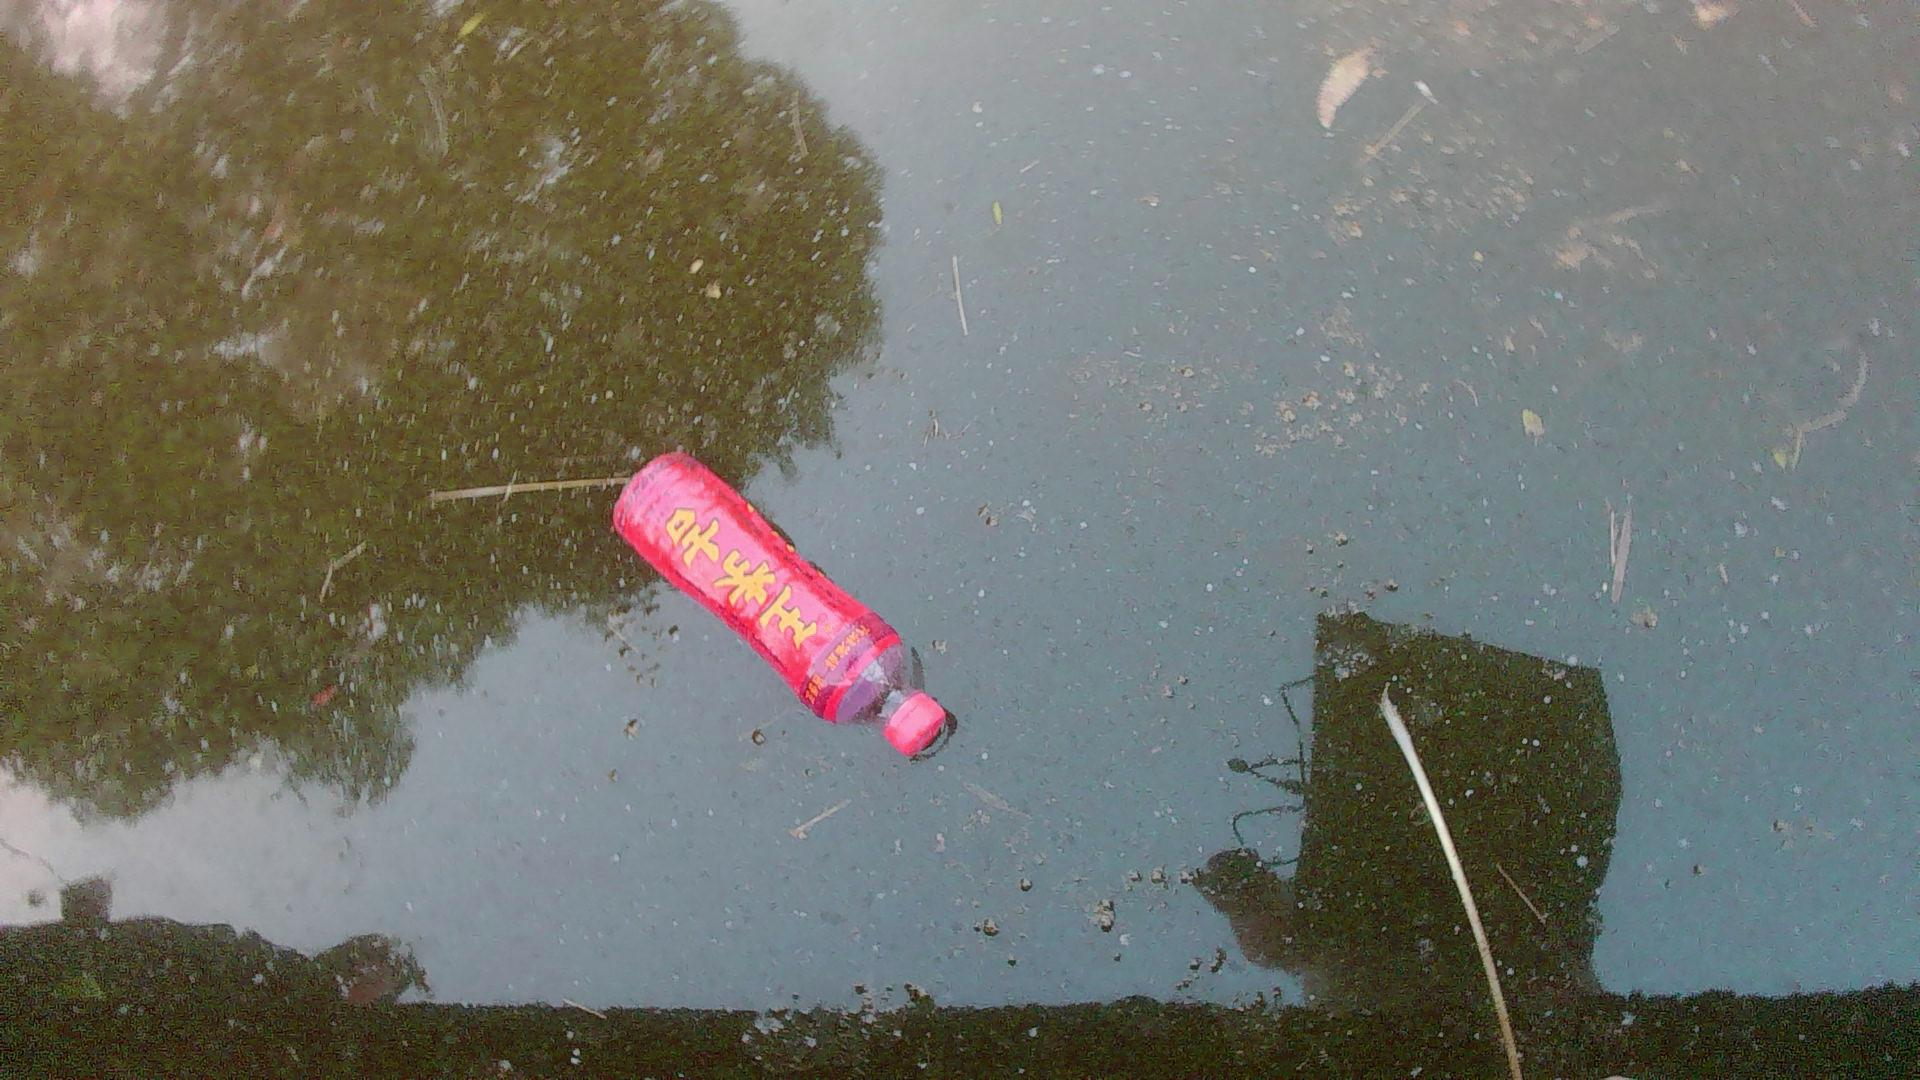Plastic: (607, 446, 957, 770)
